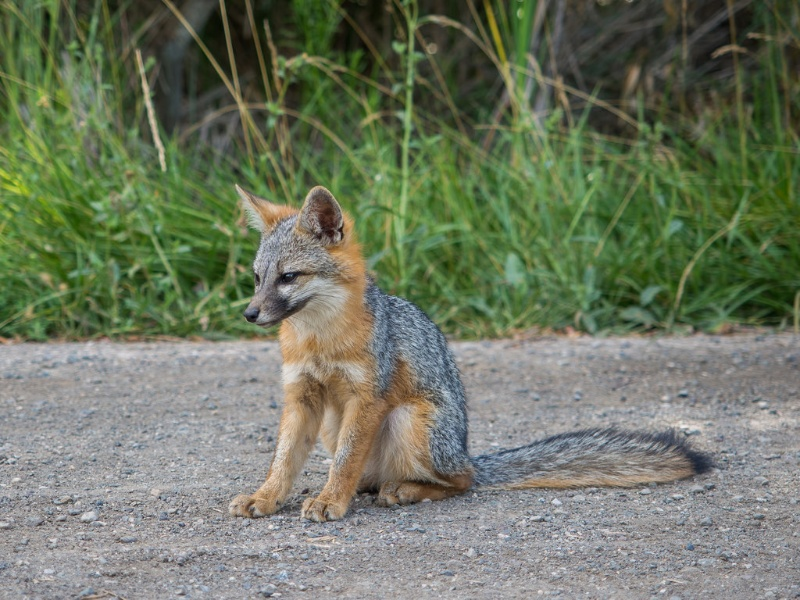fox: (230, 181, 716, 525)
